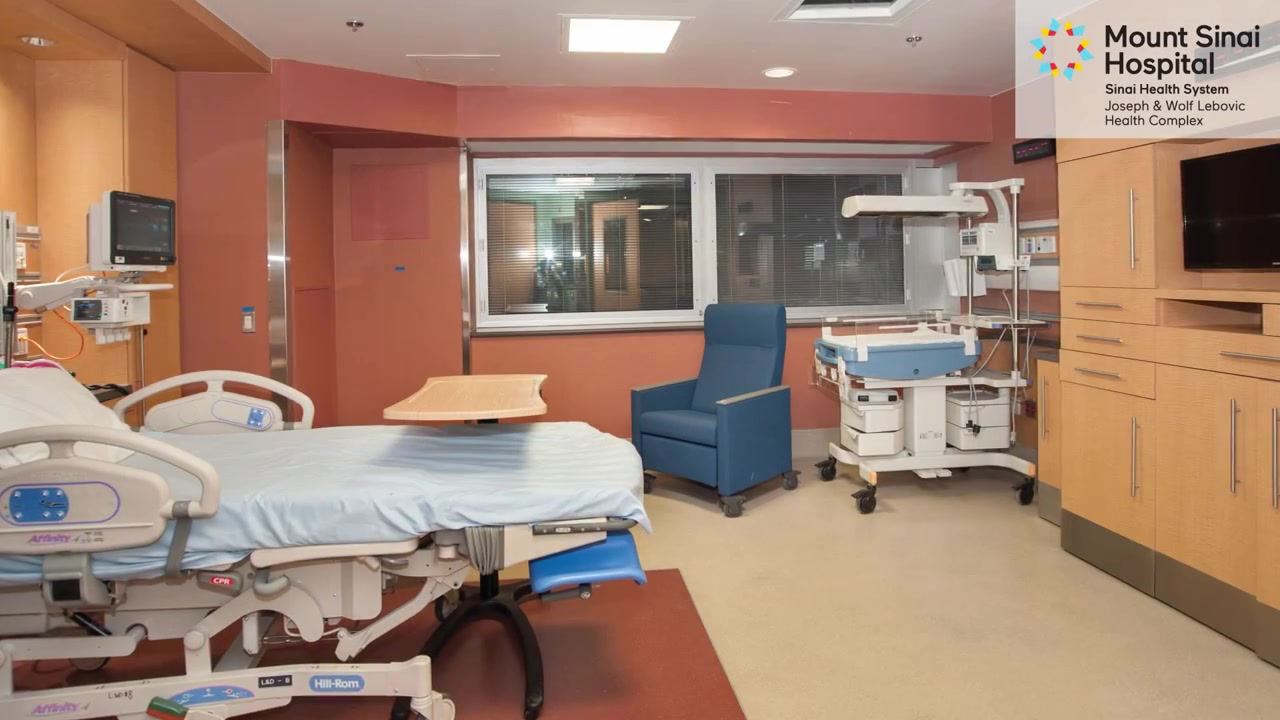TV: (1179, 142, 1280, 274)
bedrail: (1, 422, 220, 556), (106, 370, 316, 444)
bedside_monitor: (108, 189, 178, 266)
cabinet: (1063, 141, 1279, 660)
handle: (1218, 348, 1280, 365), (1270, 406, 1280, 511), (1229, 398, 1238, 494), (1127, 184, 1137, 270), (1072, 366, 1121, 379), (1038, 373, 1047, 443), (1076, 333, 1123, 345), (1131, 415, 1137, 500), (1075, 300, 1124, 309)
hospital_bed: (1, 358, 642, 720)
overbed_table: (381, 371, 553, 717)
panda_baby_warmer: (812, 177, 1044, 511)
sofa: (629, 301, 803, 519)
